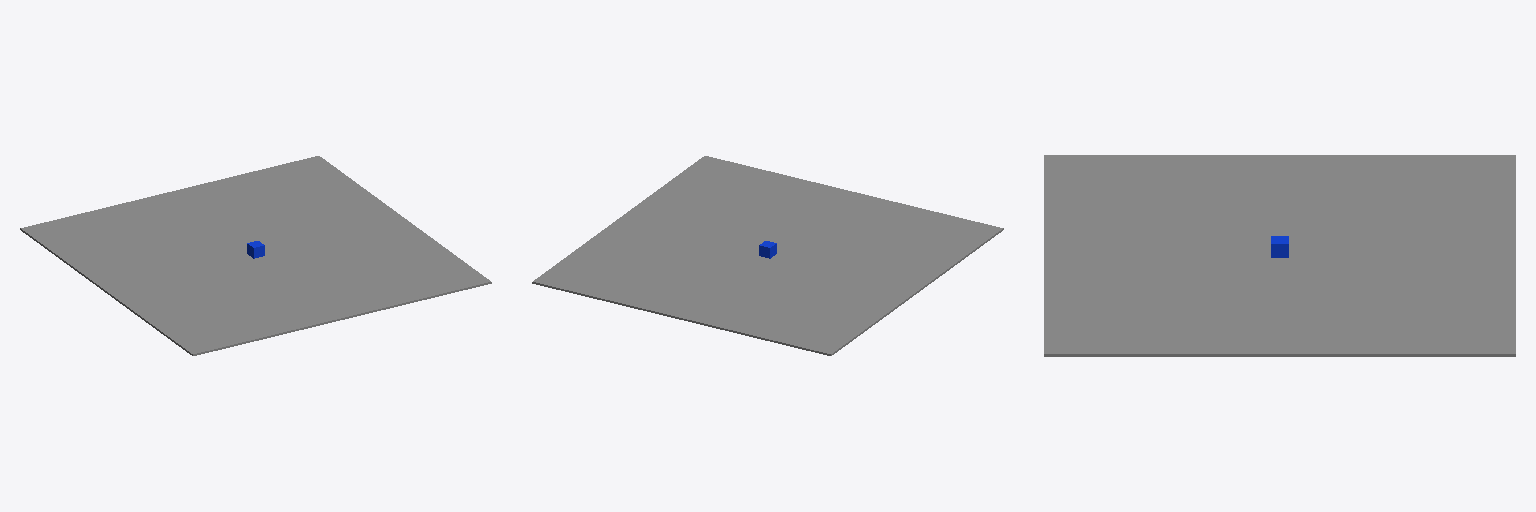
The robot description file, URDF, robot "demo_two_planar_arms":
<?xml version="1.0"?>
<!--
  Minimal demo "robot" for the MoveIt backend: two independent planar arms.
  Each arm is a point that translates in the world XY plane via two prismatic
  joints (a{i}_x, a{i}_y). The joint names and groups match
  config/problems/demo_dependency.json so the benchmark dependency-graph problem
  maps straight onto this robot.

  This is intentionally tiny: it exists so the whole ROS1/MoveIt pipeline
  (planning scene with a mesh obstacle, /check_state_validity collision checking,
  a benchmark planner, and RViz replay) runs end-to-end out of the box. For a real
  robot, drop in your own URDF/SRDF and a matching problem spec (see
  config/problems/template.json and the README).
-->
<robot name="demo_two_planar_arms">

  <material name="grey">  <color rgba="0.6 0.6 0.6 1.0"/></material>
  <material name="blue">  <color rgba="0.1 0.3 0.9 1.0"/></material>
  <material name="orange"><color rgba="0.95 0.5 0.1 1.0"/></material>

  <!-- Planning root. The SRDF pins this to the "world" frame via a fixed
       virtual joint, so joint values equal world XY coordinates. -->
  <link name="base_link">
    <visual>
      <geometry><box size="3.2 3.2 0.02"/></geometry>
      <origin xyz="0 0 -0.06"/>
      <material name="grey"/>
    </visual>
  </link>

  <!-- ===================== arm 1 ===================== -->
  <link name="a1_x_link"/>
  <joint name="a1_x" type="prismatic">
    <parent link="base_link"/>
    <child link="a1_x_link"/>
    <axis xyz="1 0 0"/>
    <limit lower="-2.0" upper="2.0" effort="50" velocity="1.0"/>
  </joint>

  <link name="a1_y_link">
    <visual>
      <geometry><box size="0.12 0.12 0.12"/></geometry>
      <material name="blue"/>
    </visual>
    <collision>
      <geometry><box size="0.12 0.12 0.12"/></geometry>
    </collision>
  </link>
  <joint name="a1_y" type="prismatic">
    <parent link="a1_x_link"/>
    <child link="a1_y_link"/>
    <axis xyz="0 1 0"/>
    <limit lower="-2.0" upper="2.0" effort="50" velocity="1.0"/>
  </joint>

  <!-- end-effector / attach link for manipulation modes -->
  <link name="a1_tool"/>
  <joint name="a1_tool_joint" type="fixed">
    <parent link="a1_y_link"/>
    <child link="a1_tool"/>
    <origin xyz="0 0 0.06"/>
  </joint>

  <!-- ===================== arm 2 ===================== -->
  <link name="a2_x_link"/>
  <joint name="a2_x" type="prismatic">
    <parent link="base_link"/>
    <child link="a2_x_link"/>
    <axis xyz="1 0 0"/>
    <limit lower="-2.0" upper="2.0" effort="50" velocity="1.0"/>
  </joint>

  <link name="a2_y_link">
    <visual>
      <geometry><box size="0.12 0.12 0.12"/></geometry>
      <material name="orange"/>
    </visual>
    <collision>
      <geometry><box size="0.12 0.12 0.12"/></geometry>
    </collision>
  </link>
  <joint name="a2_y" type="prismatic">
    <parent link="a2_x_link"/>
    <child link="a2_y_link"/>
    <axis xyz="0 1 0"/>
    <limit lower="-2.0" upper="2.0" effort="50" velocity="1.0"/>
  </joint>

  <link name="a2_tool"/>
  <joint name="a2_tool_joint" type="fixed">
    <parent link="a2_y_link"/>
    <child link="a2_tool"/>
    <origin xyz="0 0 0.06"/>
  </joint>

</robot>

--- Facts derived from the render (not from the file) ---
Views: 3 orthographic renders of the robot side by side, from view 1: azimuth 30°, elevation 25°; view 2: azimuth 150°, elevation 25°; view 3: azimuth 270°, elevation 25°.
Robot: demo_two_planar_arms — 7 links, 6 joints (4 prismatic, 2 fixed); root link base_link; default pose: every joint at zero.
Links seen in each view (by area): view 1: base_link; view 2: base_link; view 3: base_link.
Boxes of the visible links, left/top/right/bottom form: base_link: left=20, top=156, right=491, bottom=355; base_link: left=532, top=156, right=1003, bottom=355; base_link: left=1044, top=155, right=1515, bottom=356.
Bounding box of the posed robot: 3.2 × 3.2 × 0.13 m (x, y, z).
Geometry: primitives only (box / cylinder / sphere), no mesh files.
